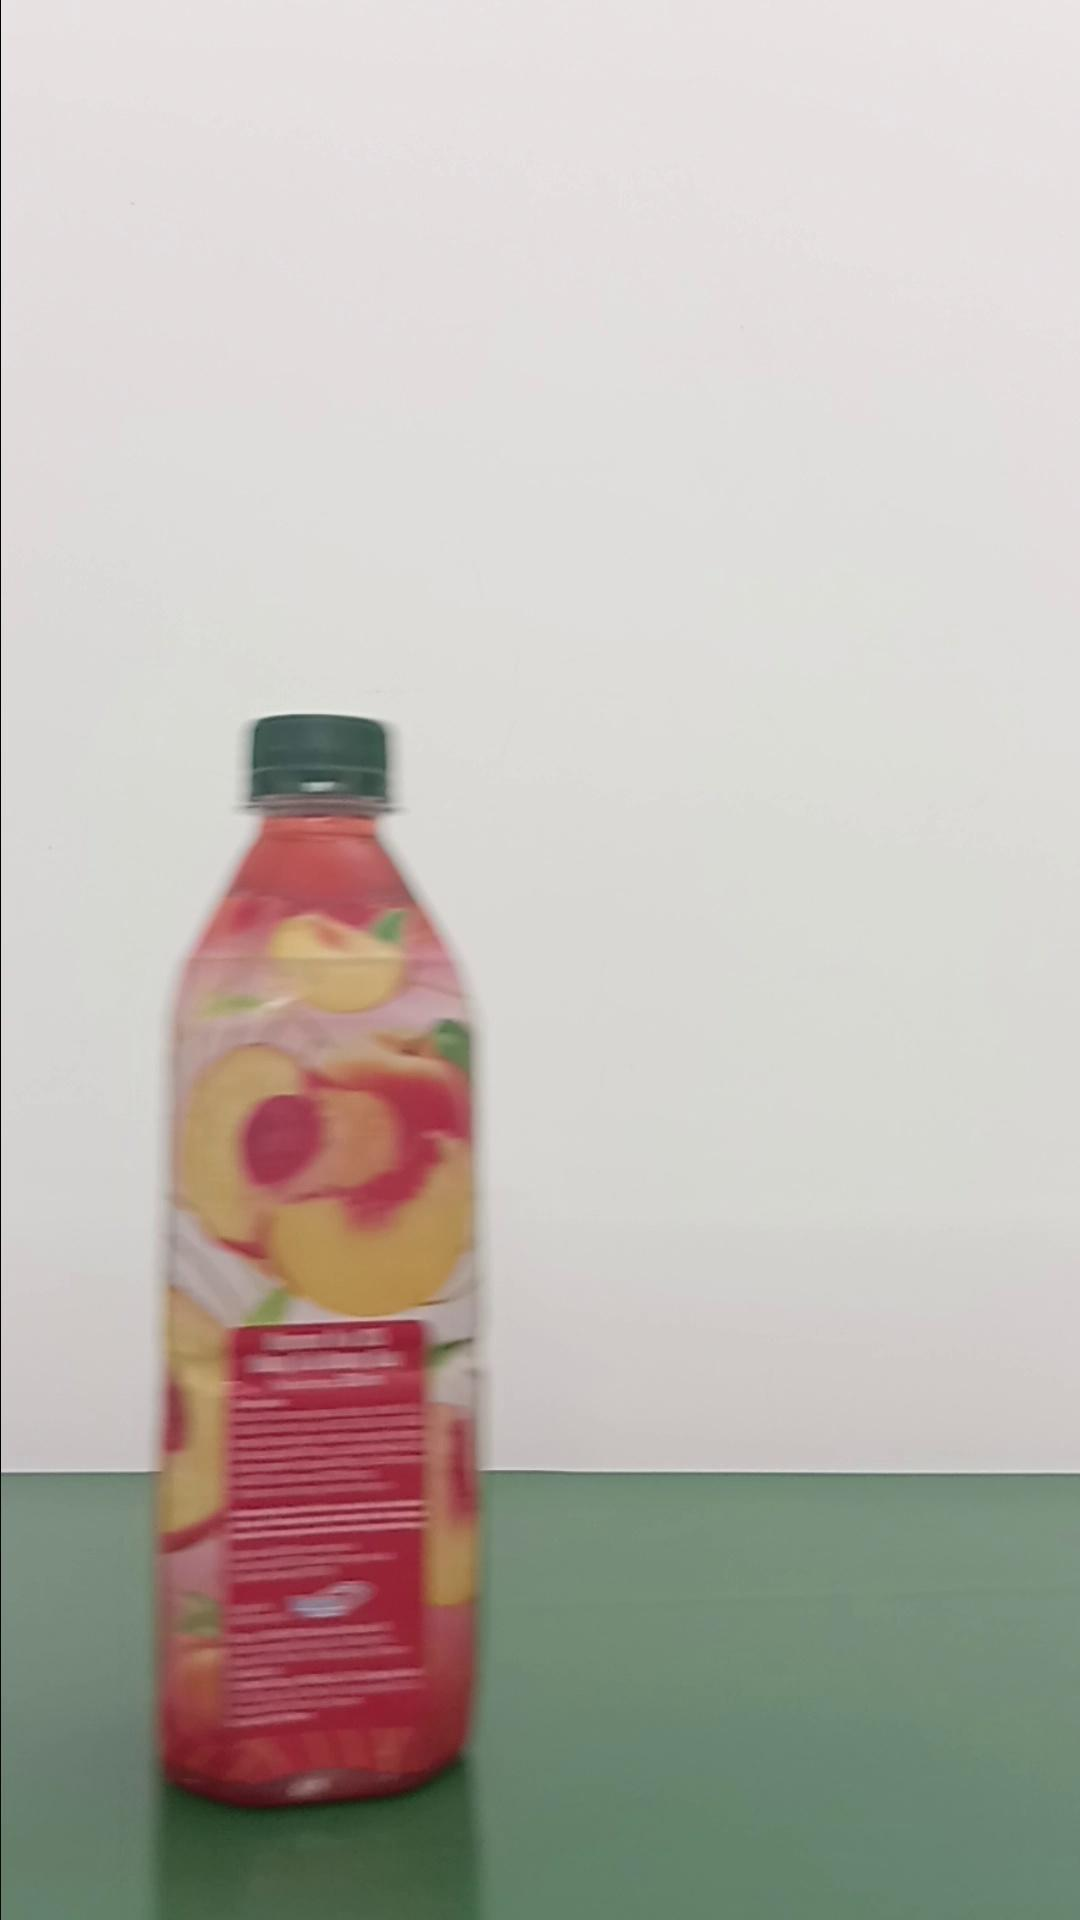khong loi: (152, 709, 487, 1807)
